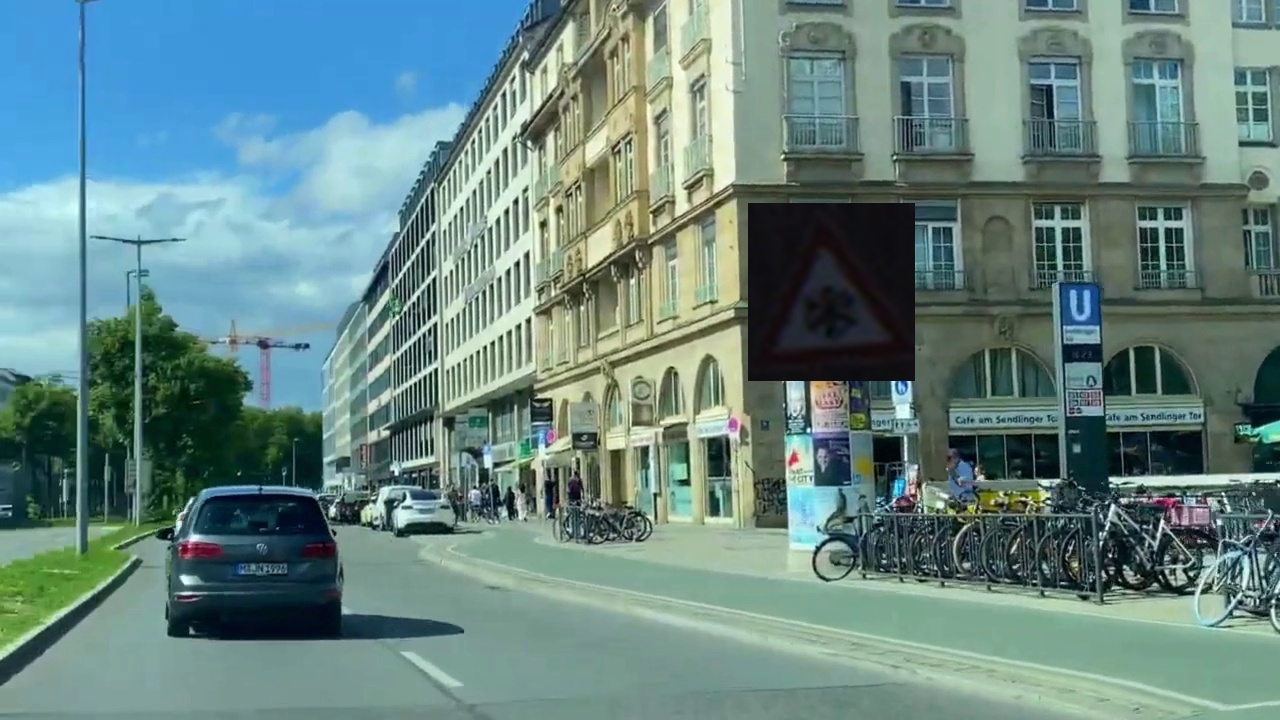Ice/snow: (748, 203, 915, 381)
